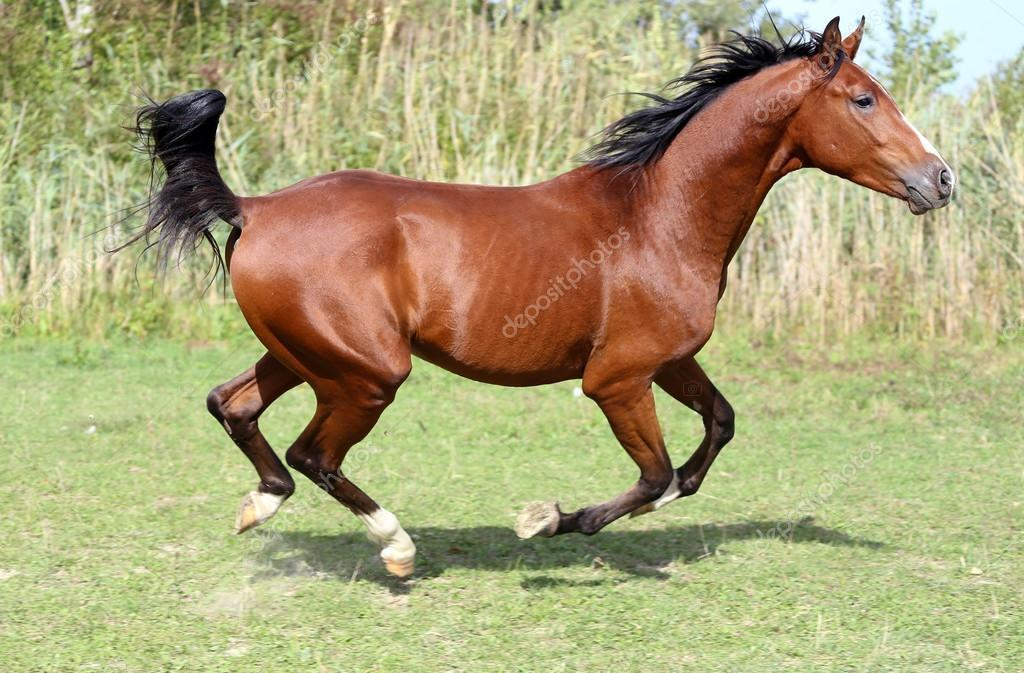horse: (120, 0, 964, 593)
